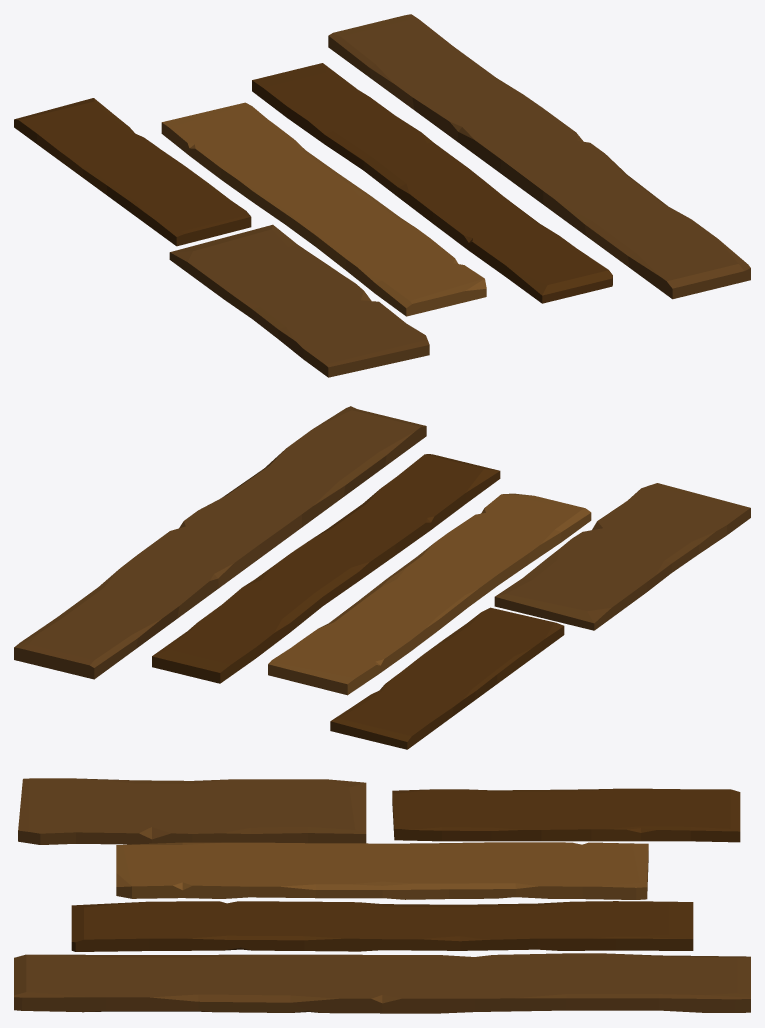
The model's file is BWP_Shelves.fbx.
The picture shows the model from 3 angles, top to bottom: view 1: azimuth 30°, elevation 25°; view 2: azimuth 150°, elevation 25°; view 3: azimuth 270°, elevation 25°; orthographic projection. The views are drawn at different scales.
Parts seen in each view (by area): view 1: Cube, Cube.001, Cube.002, Cube.004, Cube.003; view 2: Cube, Cube.002, Cube.001, Cube.004, Cube.003; view 3: Cube, Cube.001, Cube.002, Cube.004, Cube.003.
Part boxes in pixels (x1=…): Cube: x1=328, y1=14, x2=750, y2=299; Cube.001: x1=252, y1=63, x2=612, y2=303; Cube.002: x1=161, y1=102, x2=486, y2=316; Cube.004: x1=169, y1=224, x2=429, y2=377; Cube.003: x1=14, y1=98, x2=251, y2=246; Cube: x1=14, y1=406, x2=426, y2=679; Cube.002: x1=268, y1=493, x2=591, y2=695; Cube.001: x1=152, y1=454, x2=500, y2=683; Cube.004: x1=494, y1=483, x2=750, y2=630; Cube.003: x1=330, y1=607, x2=564, y2=749; Cube: x1=14, y1=953, x2=750, y2=1013; Cube.001: x1=71, y1=901, x2=693, y2=951; Cube.002: x1=116, y1=842, x2=648, y2=899; Cube.004: x1=18, y1=778, x2=366, y2=844; Cube.003: x1=392, y1=788, x2=740, y2=842.
Bounding box in the file's own units: 1123 × 34.8 × 1576.
